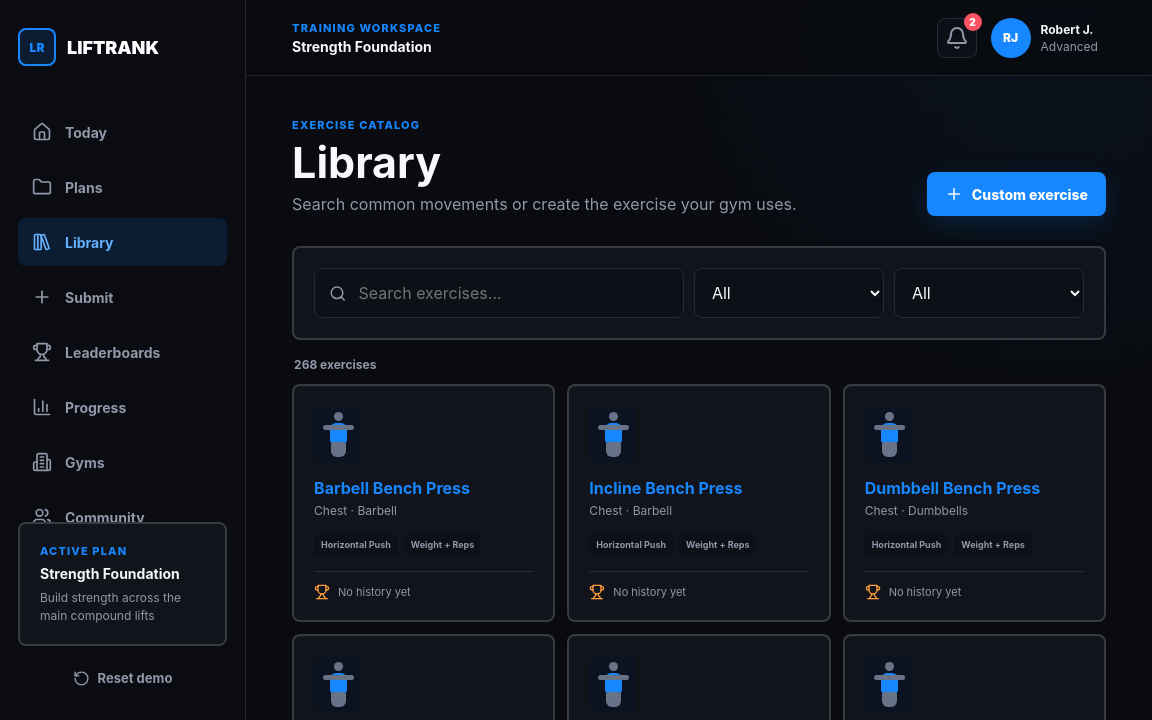
LiftRank tracker UI › filters the exercise library by search and equipment
The width and height of the screenshot is (1152, 720).
Type "bench" into the field labelled "Search exercises" at [513, 293], box top-left (356, 282), bottom-right (669, 304)
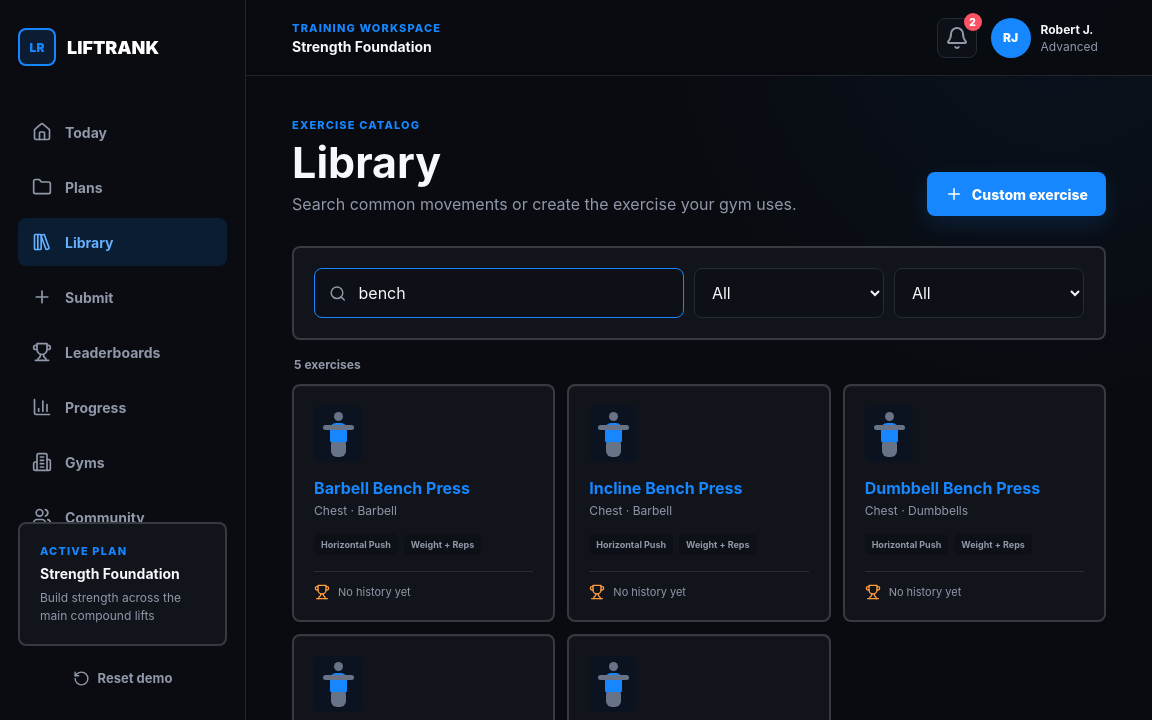
Check: the link "Barbell Bench Press" is shown, box top-left (314, 478), bottom-right (470, 498)
Select "Dumbbells" in the dropdown named "Equipment" at [989, 293], box top-left (894, 268), bottom-right (1084, 318)
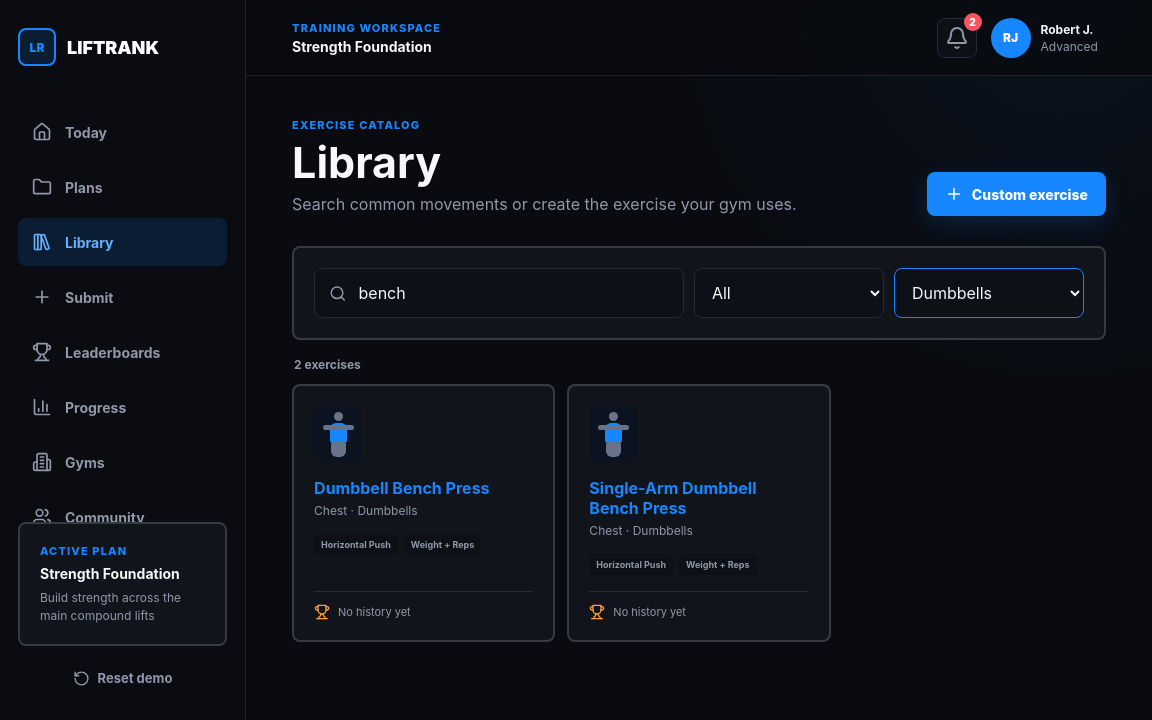
Check: the link "Dumbbell Bench Press" is shown, box top-left (314, 478), bottom-right (490, 498)
Check: the link "Barbell Bench Press" is gone
